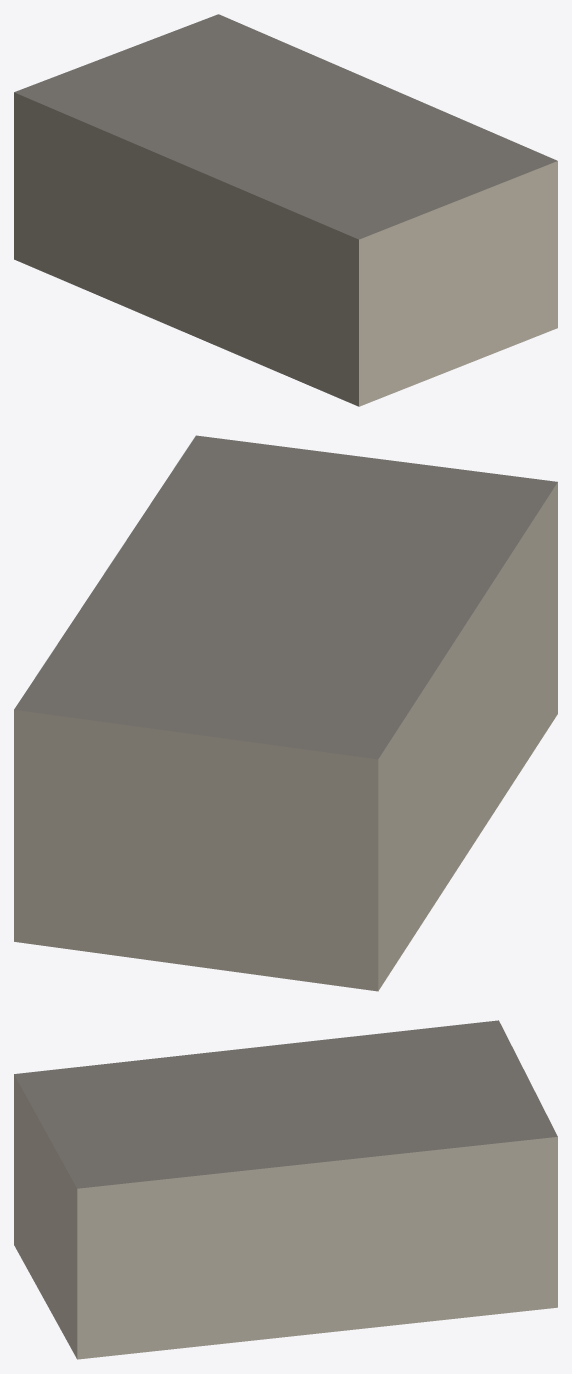
3 views of the same model, one above another, from view 1: azimuth 30°, elevation 25°; view 2: azimuth 150°, elevation 25°; view 3: azimuth 270°, elevation 25° (orthographic). The views are drawn at different scales.
Visible parts, largest first — view 1: HP-w505649214; view 2: HP-w505649214; view 3: HP-w505649214.
Boxes of the visible parts, left/top/right/bottom form: HP-w505649214: left=14, top=14, right=557, bottom=406; HP-w505649214: left=14, top=435, right=557, bottom=991; HP-w505649214: left=14, top=1020, right=557, bottom=1359.
Size of the model in its own units: 31.7 by 15 by 43.28.
